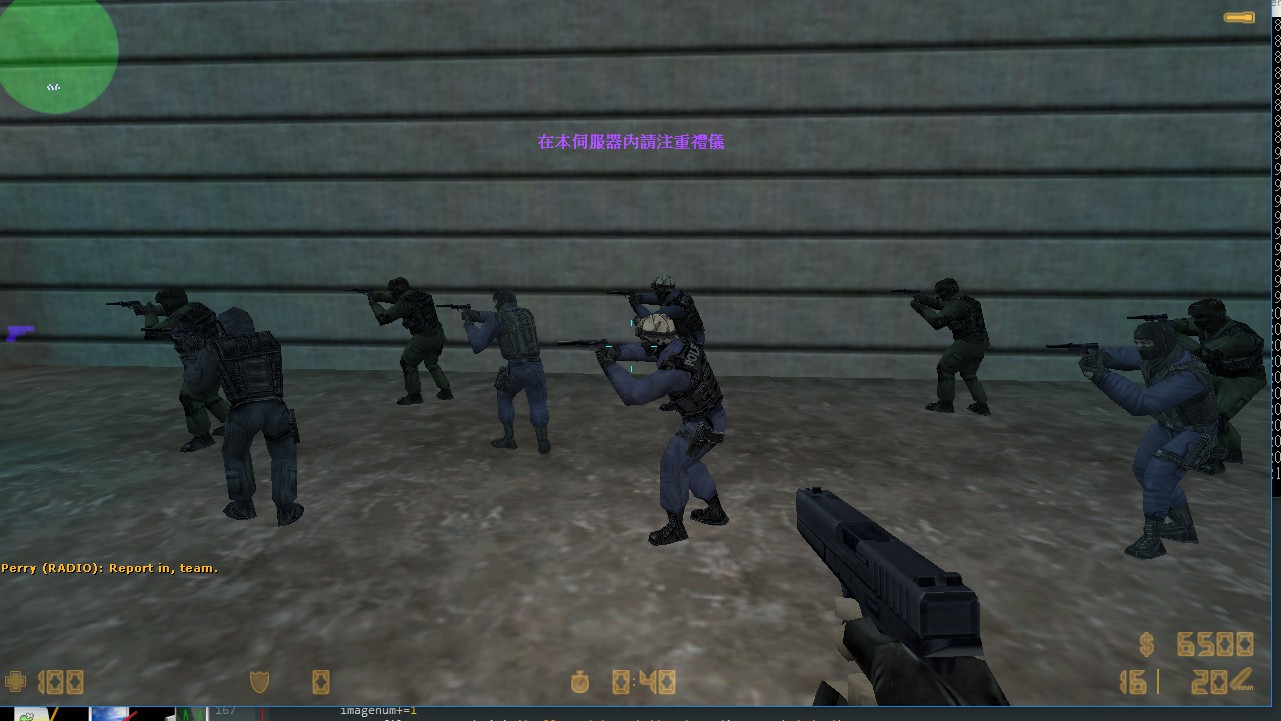person: (595, 314, 731, 547), (1085, 317, 1201, 564), (200, 317, 313, 534), (462, 282, 564, 459), (1174, 291, 1260, 472), (134, 281, 224, 450), (921, 272, 997, 427), (380, 268, 462, 409), (625, 268, 712, 370)
